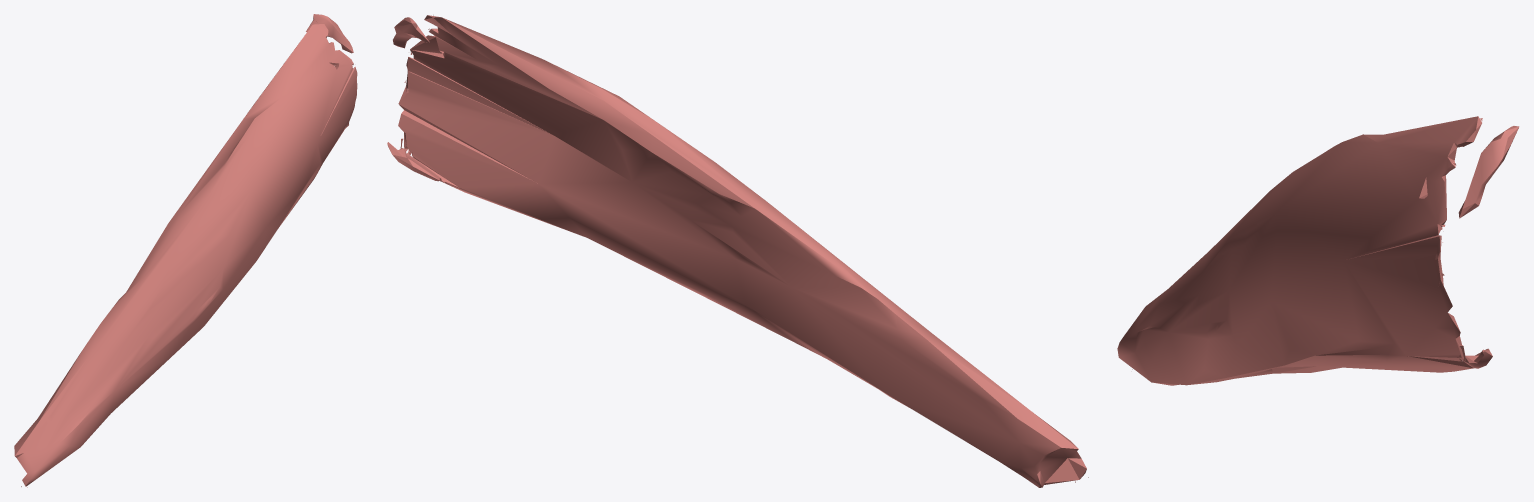
The model's file is fma65198_fj1514.glb.
3 views of the same model, side by side, from view 1: azimuth 30°, elevation 25°; view 2: azimuth 150°, elevation 25°; view 3: azimuth 270°, elevation 25° (orthographic). The views are drawn at different scales.
Visible parts, largest first — view 1: FMA65198_FJ1514; view 2: FMA65198_FJ1514; view 3: FMA65198_FJ1514.
Boxes of the visible parts, <box> form: FMA65198_FJ1514: <box>14,14,357,487</box>; FMA65198_FJ1514: <box>387,15,1088,487</box>; FMA65198_FJ1514: <box>1117,116,1519,385</box>.
Bounding box in the file's own units: 0.0422 × 0.0299 × 0.0176.
